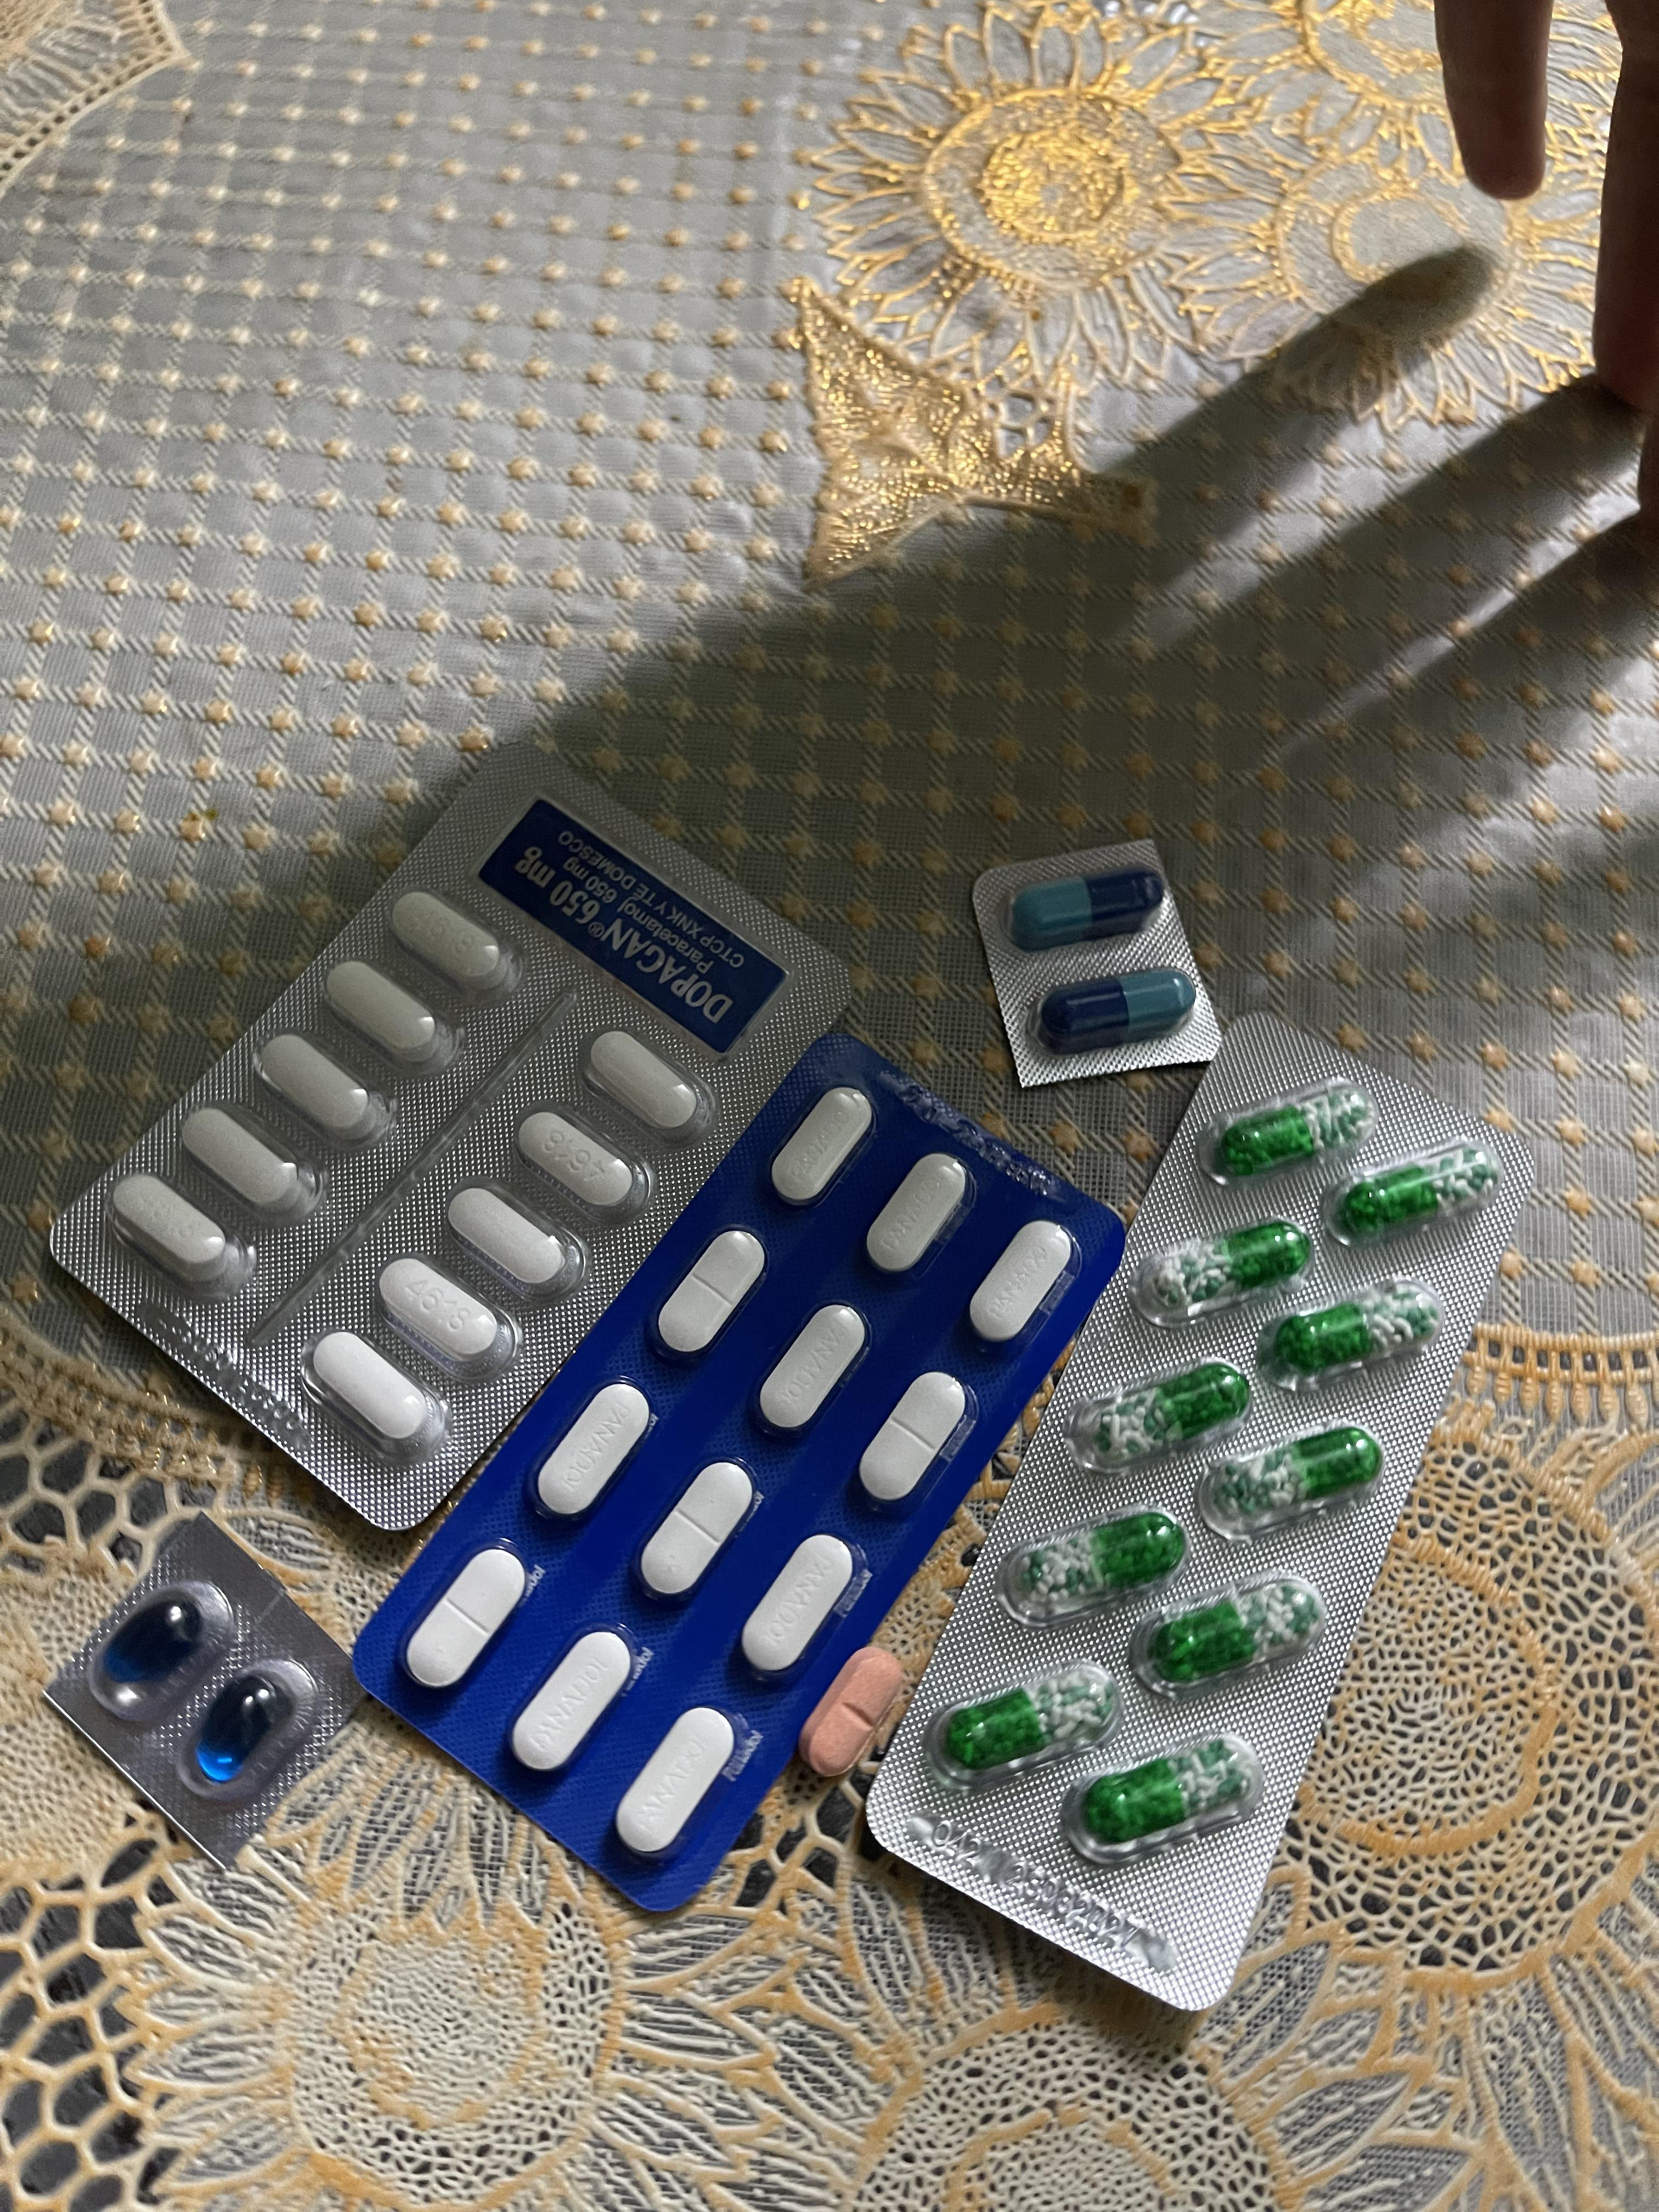Lincomyxin_500mg: (181, 1663, 312, 1794), (103, 1590, 214, 1688)
Loratadine_10mg: (805, 1646, 904, 1775)
Paracetamol_350mg: (404, 1541, 530, 1688), (617, 1705, 737, 1857), (511, 1627, 634, 1773), (532, 1381, 659, 1522), (741, 1531, 863, 1677), (636, 1460, 758, 1601), (755, 1305, 873, 1439), (857, 1372, 971, 1510), (652, 1226, 769, 1359), (967, 1219, 1075, 1345), (864, 1157, 974, 1278), (769, 1089, 878, 1205)
Paracetamol_500mg: (376, 1254, 519, 1381), (179, 1104, 315, 1219), (110, 1174, 244, 1289), (516, 1109, 645, 1224), (256, 1033, 387, 1141), (324, 961, 453, 1069), (312, 1331, 434, 1442), (387, 892, 518, 993), (587, 1029, 708, 1134), (446, 1184, 568, 1287)
Paracetamol_650mg: (1082, 1733, 1260, 1862), (938, 1665, 1115, 1787), (1133, 1575, 1314, 1691), (1255, 1282, 1438, 1390), (1012, 1505, 1180, 1618), (1324, 1139, 1502, 1244), (1143, 1219, 1307, 1327), (1215, 1087, 1375, 1181), (1089, 1367, 1237, 1467), (1215, 1437, 1378, 1524)
pill: (1009, 869, 1164, 953), (1044, 968, 1192, 1050)
